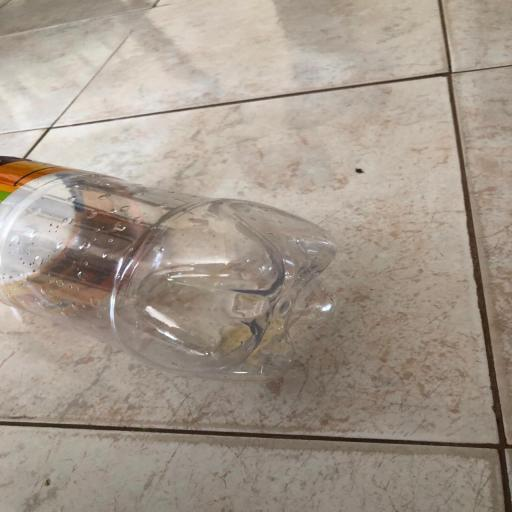waste: (0, 141, 350, 396)
